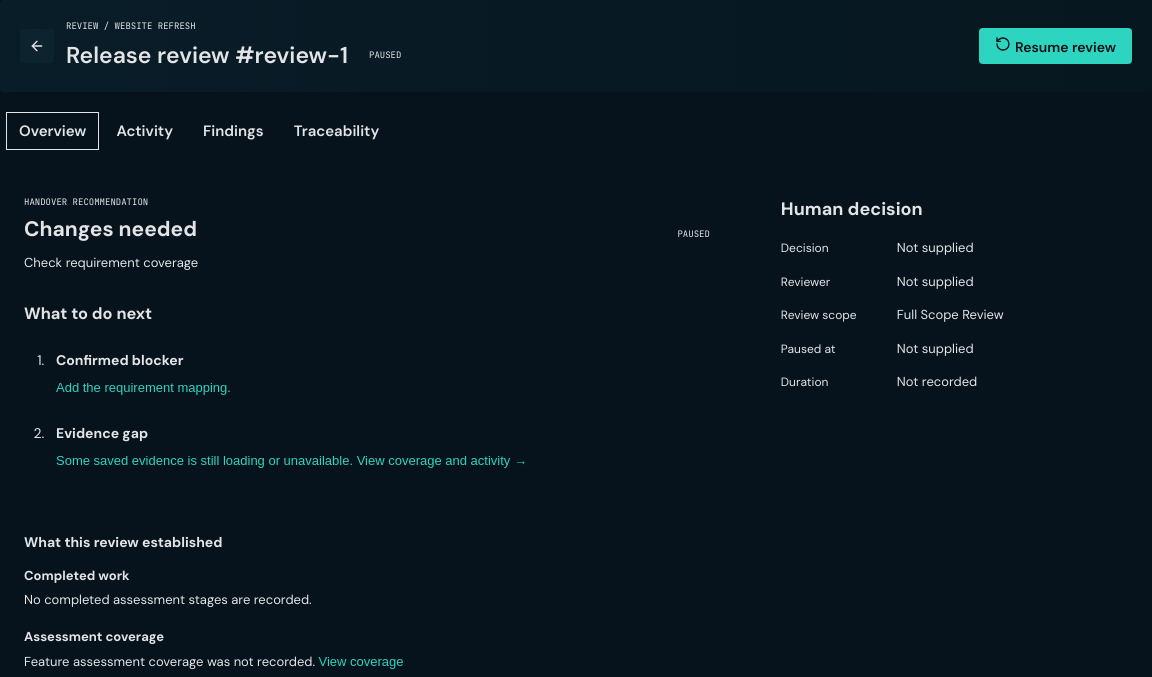
it: ReviewActivityScreen › shows a provider pause and an explicit manual resume without approval actions
Expected: the text "Paused" next to "Release review #review-1" is shown, [369,48,401,60]
Expected: the text "Paused at" is shown, [781,340,836,356]
Click the button "Resume review" at point(1056, 46), box [980,28,1132,64]
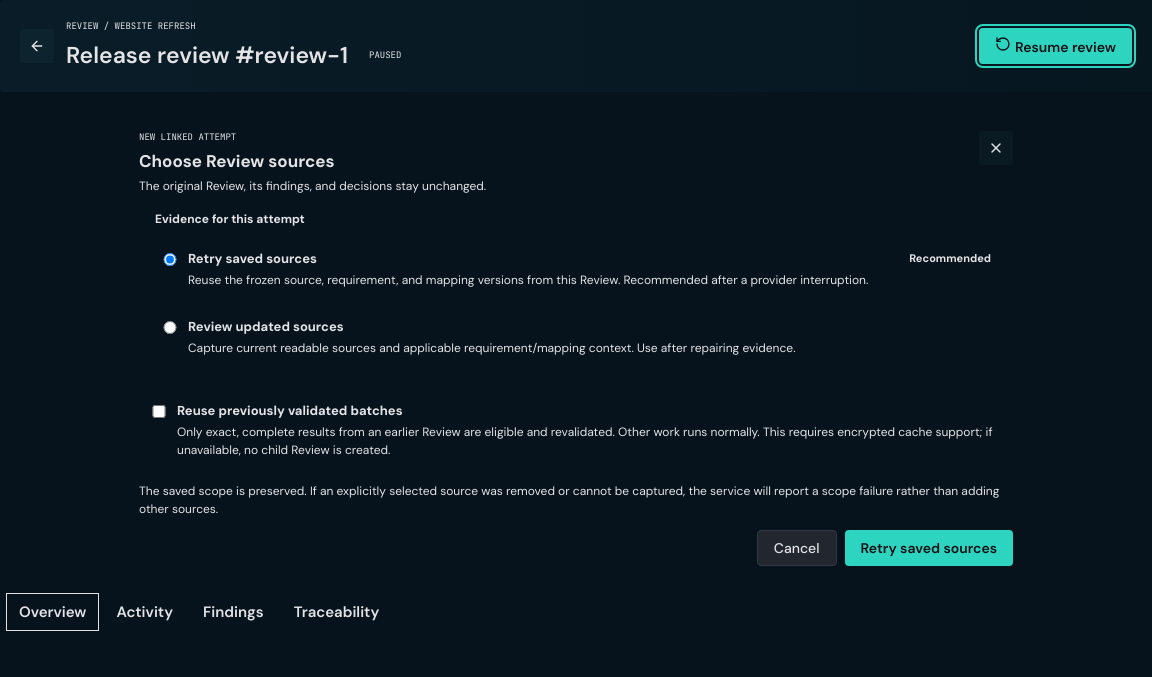
Expected: the heading "Choose Review sources" is shown, [139,150,335,172]
Expected: the text "New linked attempt" is shown, [139,131,236,143]
Expected: the radio button labelled "Retry saved sources" is checked, [161,252,179,266]
